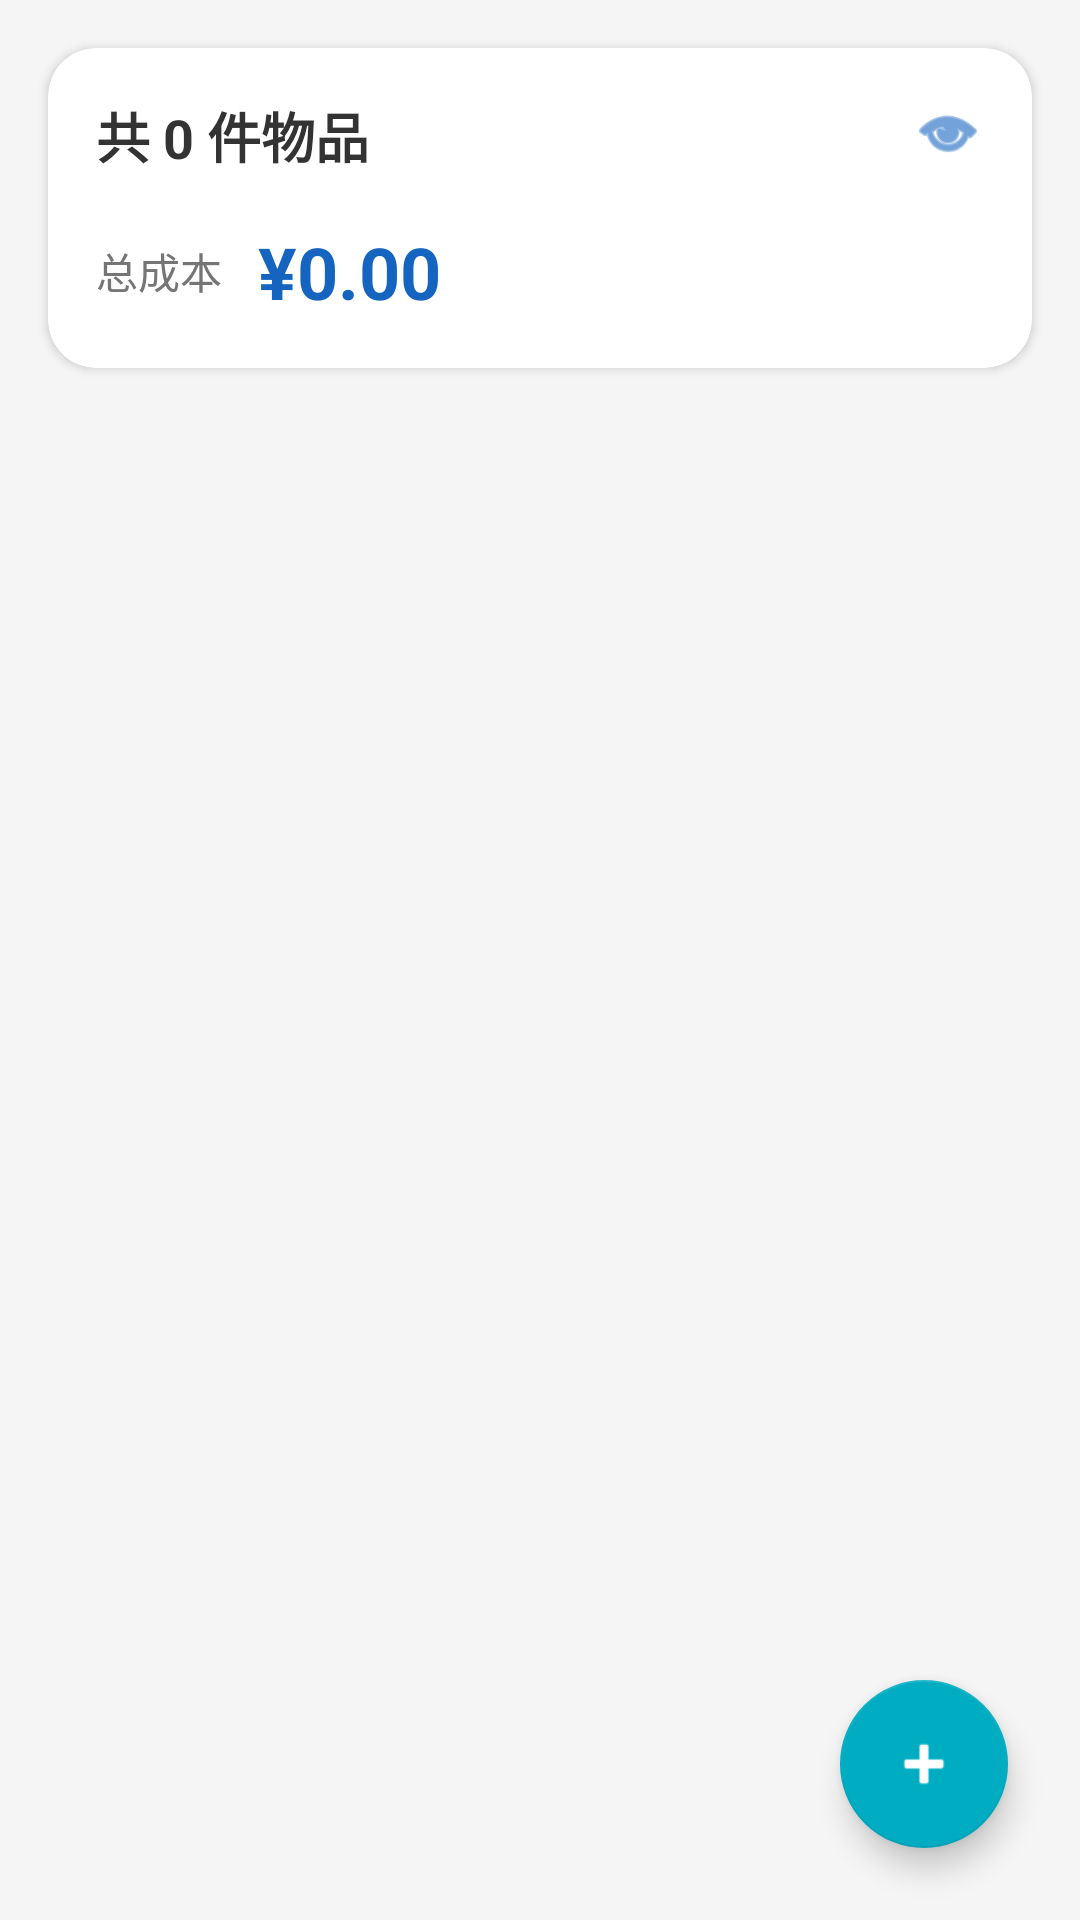

Where to tap for icons on this 1080 × 1920 app screen, as (x=x, y=y):
Add Item: (x=924, y=1764)
Toggle Privacy: (x=948, y=133)
